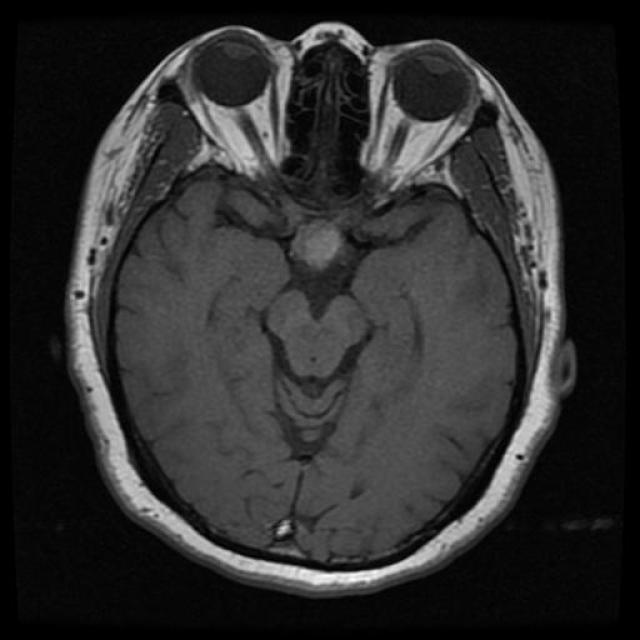pituitary: (280, 210, 360, 302)
